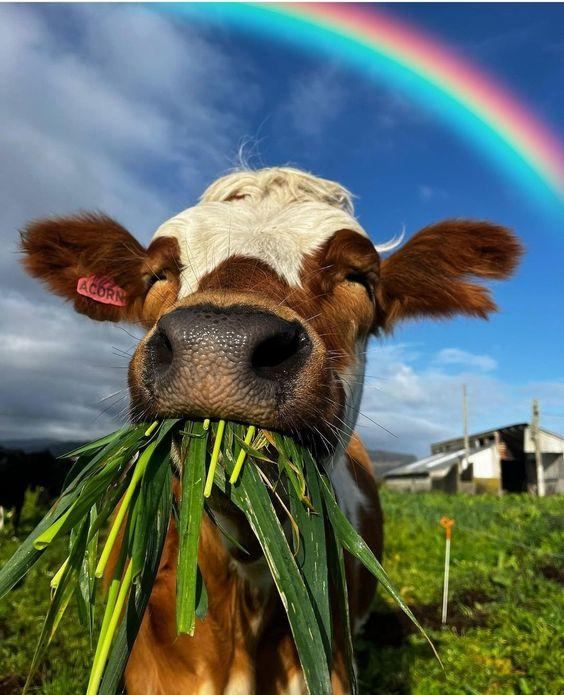cow: (14, 152, 542, 634)
